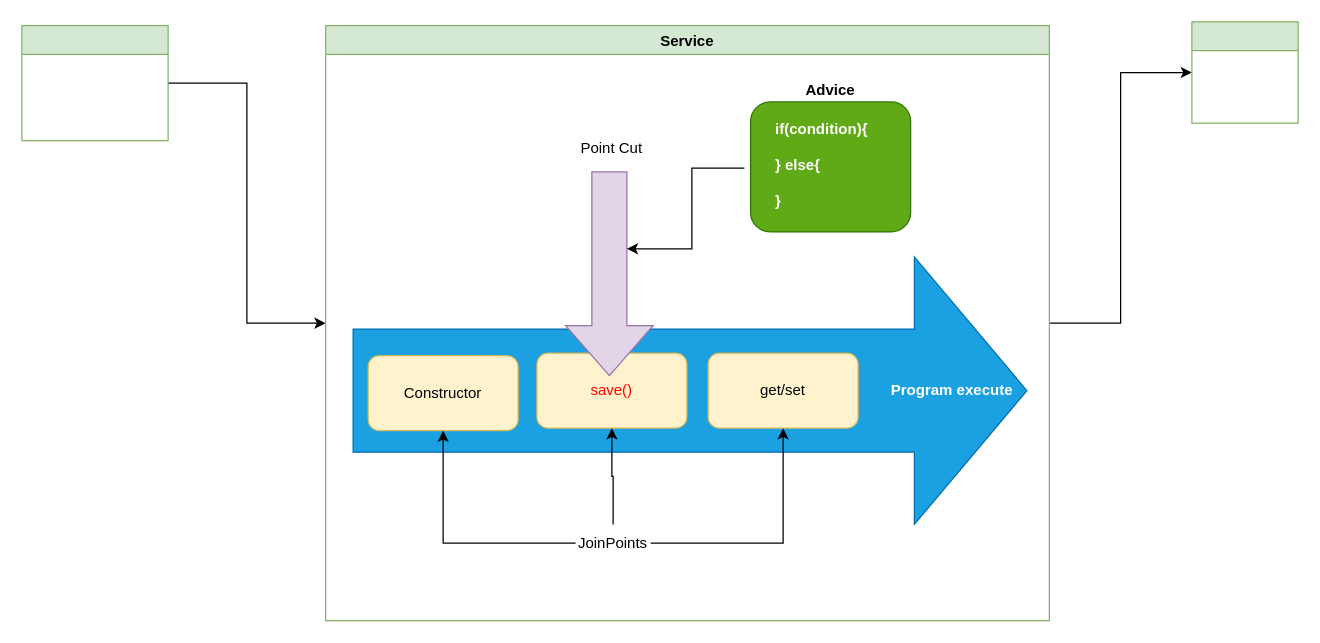
Some shapes in this 1320 by 643 pixel diagram are drawn without their labels. Here are the shapes that lost their labels. From the top down, the centre of each, then its label:
(x=94, y=82): Controller
(x=1244, y=72): DAO
